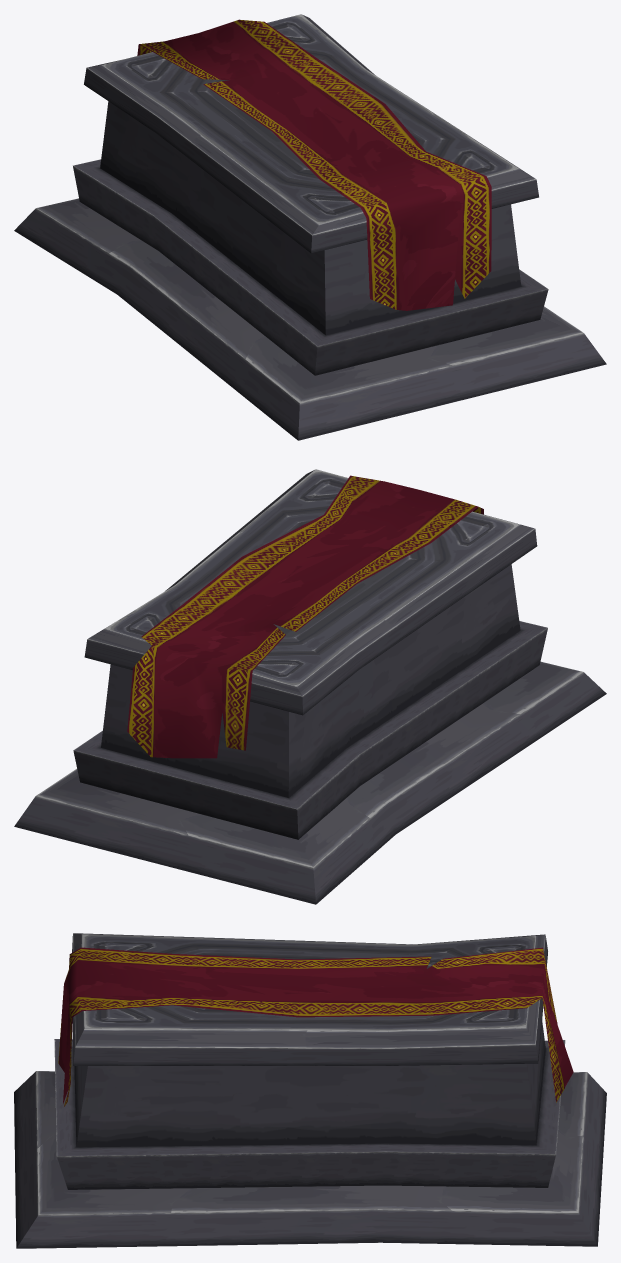
Rendered from SM_PROP_altar_dungeon_01.fbx.
3 renders of one model, top to bottom at view 1: azimuth 30°, elevation 25°; view 2: azimuth 150°, elevation 25°; view 3: azimuth 270°, elevation 25°, orthographic. The views are drawn at different scales.
Parts seen in each view (by area): view 1: SM_PROP_altar_dungeon_01, SM_PROP_altar_cloth_dungeon_01; view 2: SM_PROP_altar_dungeon_01, SM_PROP_altar_cloth_dungeon_01; view 3: SM_PROP_altar_dungeon_01, SM_PROP_altar_cloth_dungeon_01.
Part boxes in pixels (x1=…): SM_PROP_altar_dungeon_01: x1=14, y1=14, x2=606, y2=440; SM_PROP_altar_cloth_dungeon_01: x1=137, y1=19, x2=491, y2=310; SM_PROP_altar_dungeon_01: x1=14, y1=469, x2=606, y2=904; SM_PROP_altar_cloth_dungeon_01: x1=127, y1=475, x2=483, y2=758; SM_PROP_altar_dungeon_01: x1=14, y1=933, x2=606, y2=1248; SM_PROP_altar_cloth_dungeon_01: x1=58, y1=947, x2=573, y2=1106.
Size of the model in its own units: 139 by 79.8 by 222.
